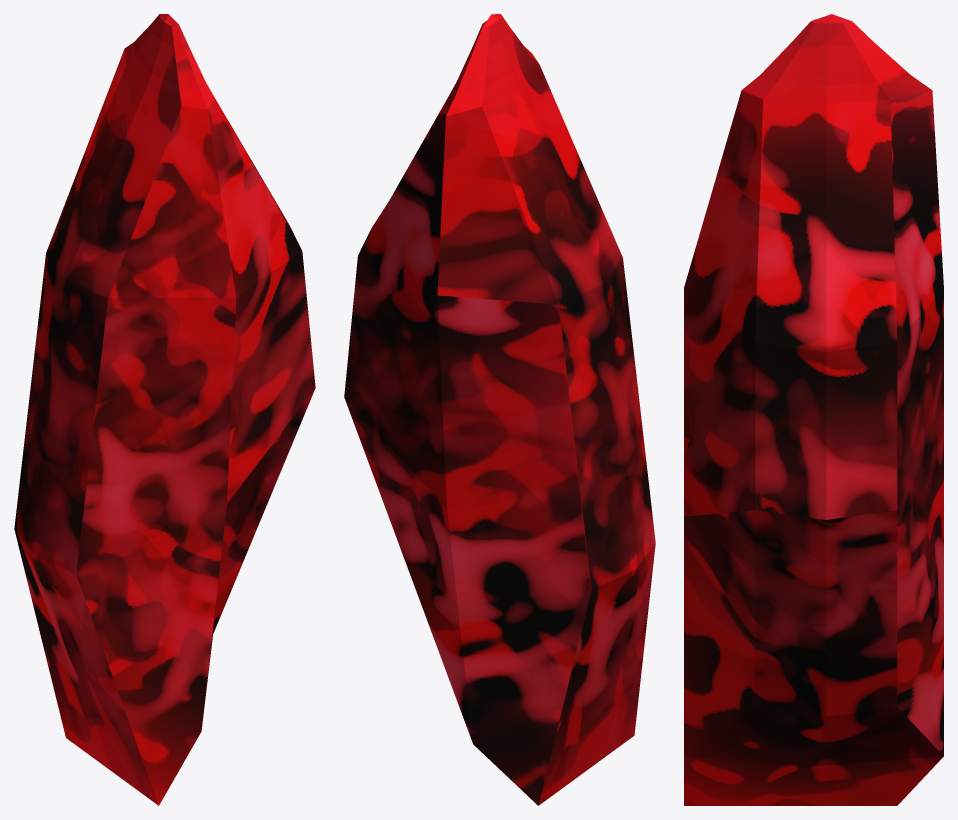
The model's file is Currency2.glb.
The picture shows the model from 3 angles, left to right: view 1: azimuth 30°, elevation 25°; view 2: azimuth 150°, elevation 25°; view 3: azimuth 270°, elevation 25°; orthographic projection. The views are drawn at different scales.
Visible parts, largest first — view 1: Currency1; view 2: Currency1; view 3: Currency1.
Boxes of the visible parts, <box> form: Currency1: <box>14,14,315,805</box>; Currency1: <box>344,14,655,805</box>; Currency1: <box>684,14,943,805</box>.
Size of the model in its own units: 0.12 by 0.3104 by 0.0877.
1 material, 1 textured.
